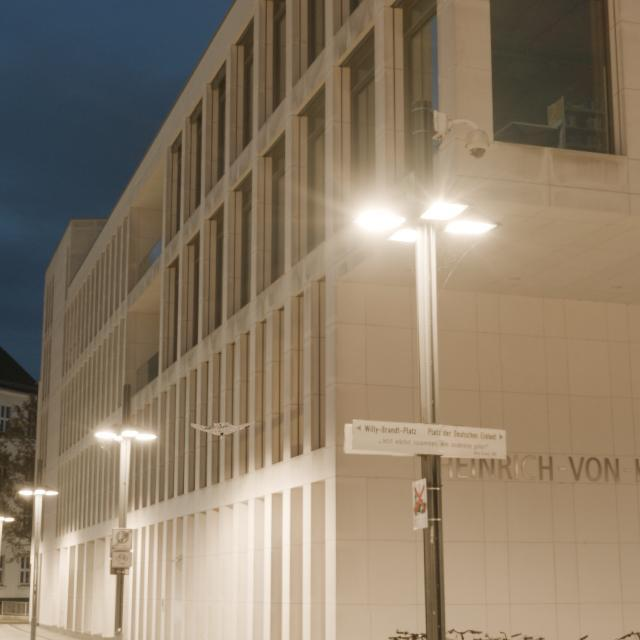Airaplan: (191, 421, 255, 442)
